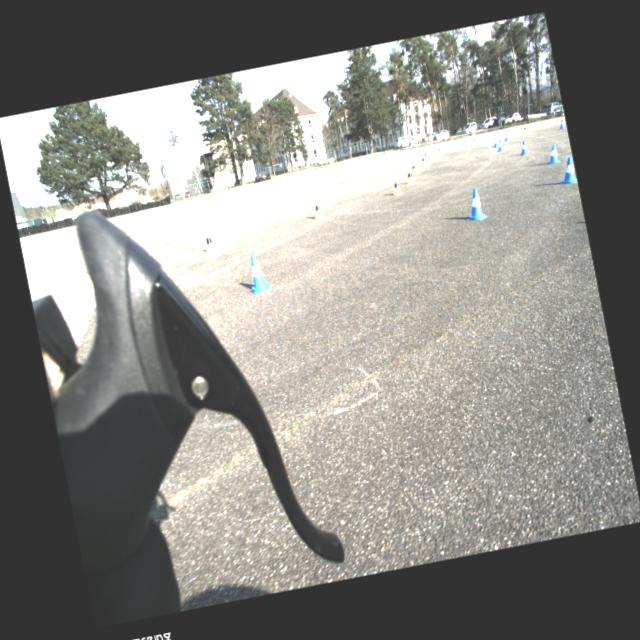blue_cone: (244, 250, 272, 296), (461, 186, 489, 224), (555, 156, 578, 187), (545, 143, 561, 165), (518, 140, 529, 156), (496, 139, 504, 152), (492, 136, 500, 148), (558, 118, 566, 130), (503, 131, 510, 142)
yellow_cone: (202, 228, 218, 256), (311, 197, 325, 220), (391, 177, 404, 196), (404, 167, 414, 184), (410, 162, 418, 174), (420, 154, 427, 167), (470, 136, 478, 146), (522, 125, 528, 134), (436, 146, 442, 154), (424, 151, 429, 160)
